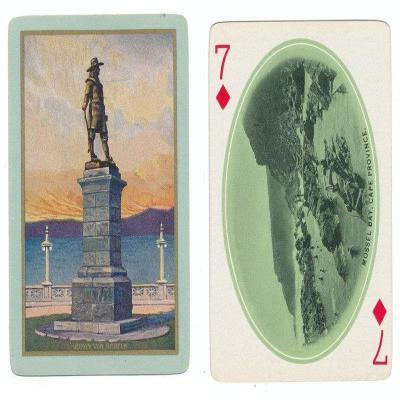graphics: (208, 18, 394, 383), (9, 14, 190, 377)
